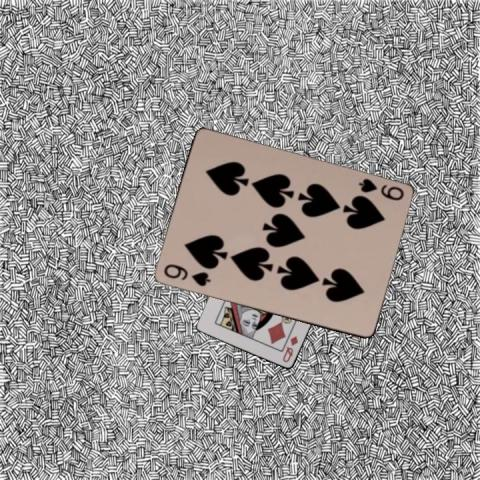9s: (355, 175, 405, 203), (160, 261, 211, 288)
Qd: (279, 333, 300, 364)
